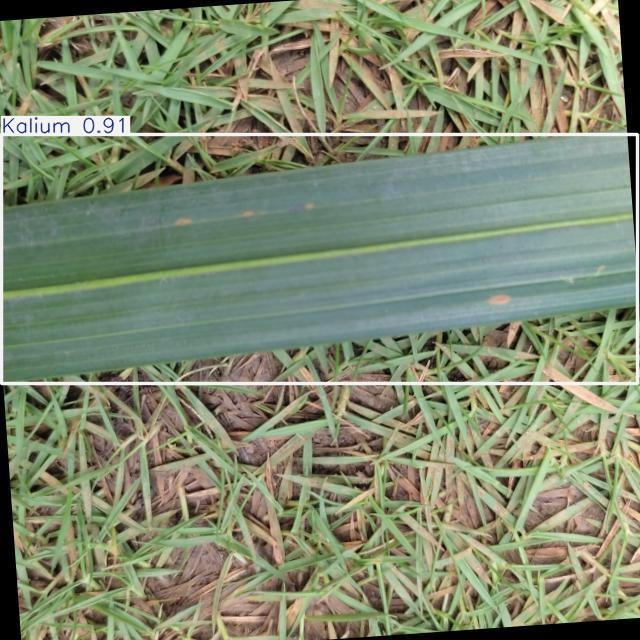Kalium: (2, 135, 637, 383)
